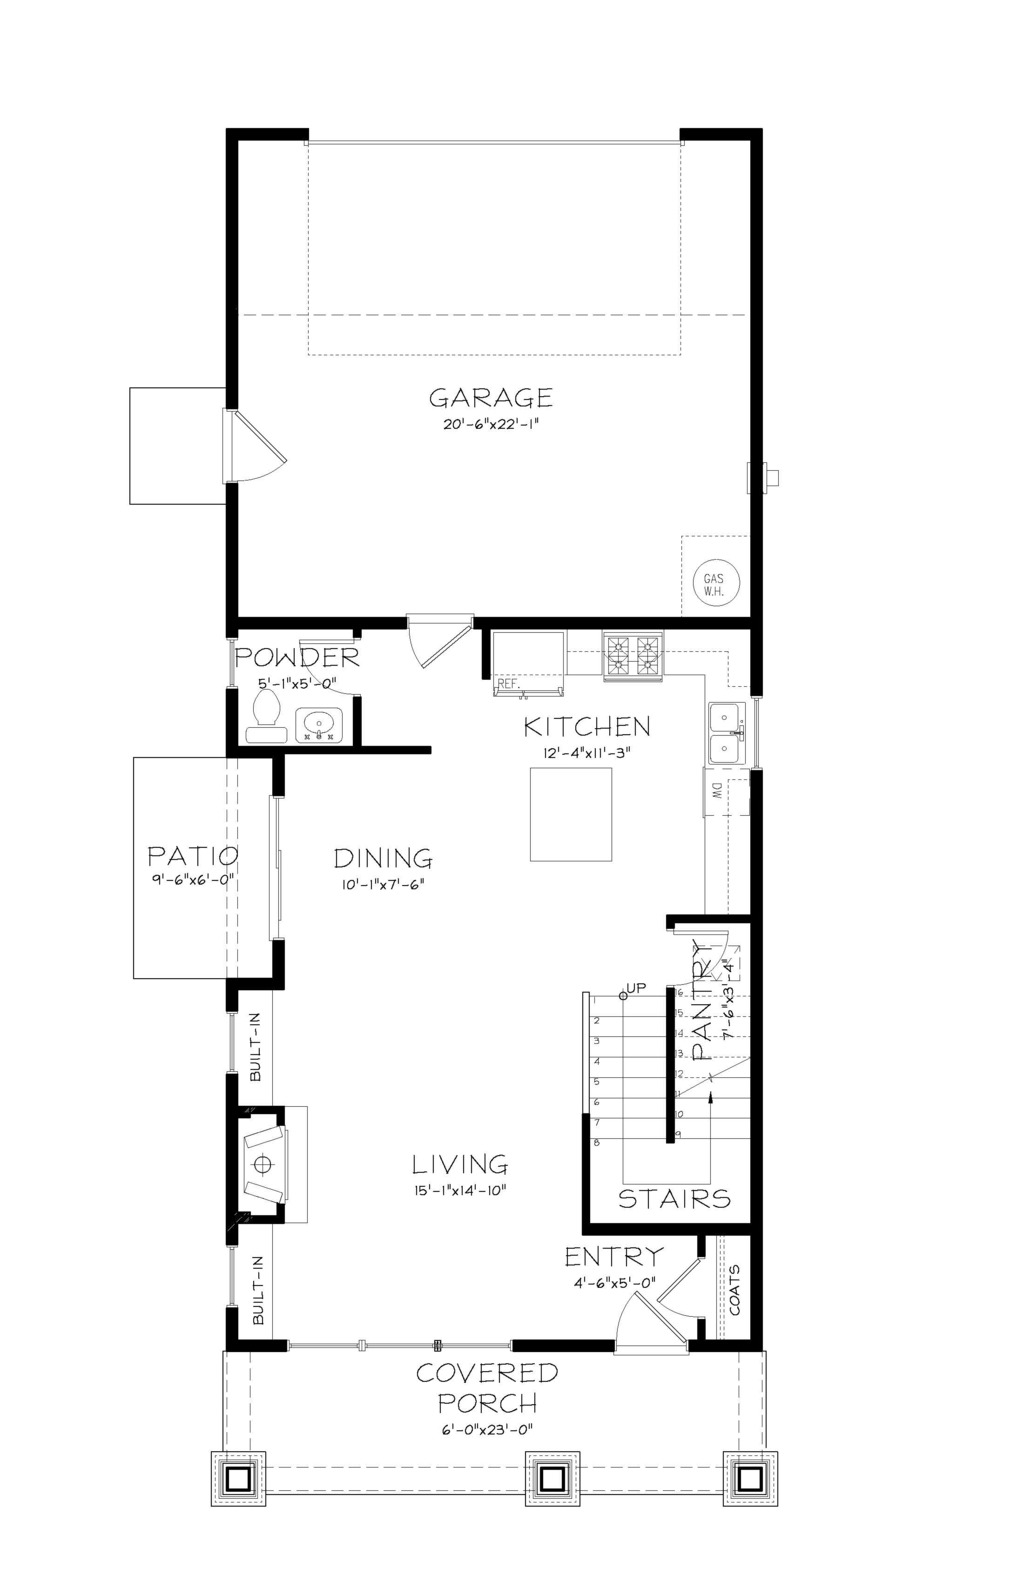door: (610, 1285, 710, 1363), (208, 407, 289, 497), (400, 597, 490, 675), (642, 1246, 729, 1316), (298, 627, 383, 697)
large_sink: (238, 675, 298, 753)
small_sink: (286, 692, 366, 747)
stairs: (569, 911, 776, 1220)
twin_sink: (690, 690, 765, 768)
